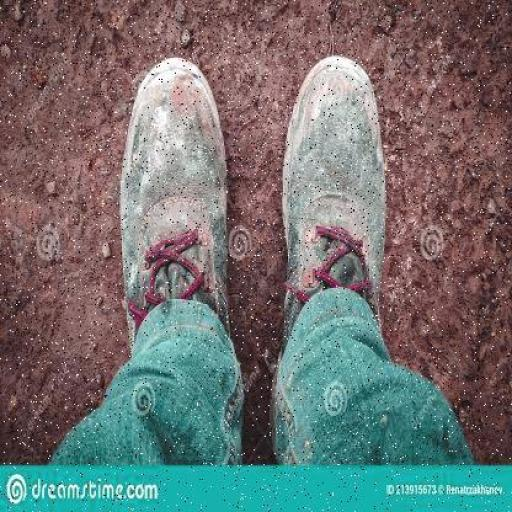safety_shoe: (122, 68, 236, 348), (282, 61, 386, 340)
